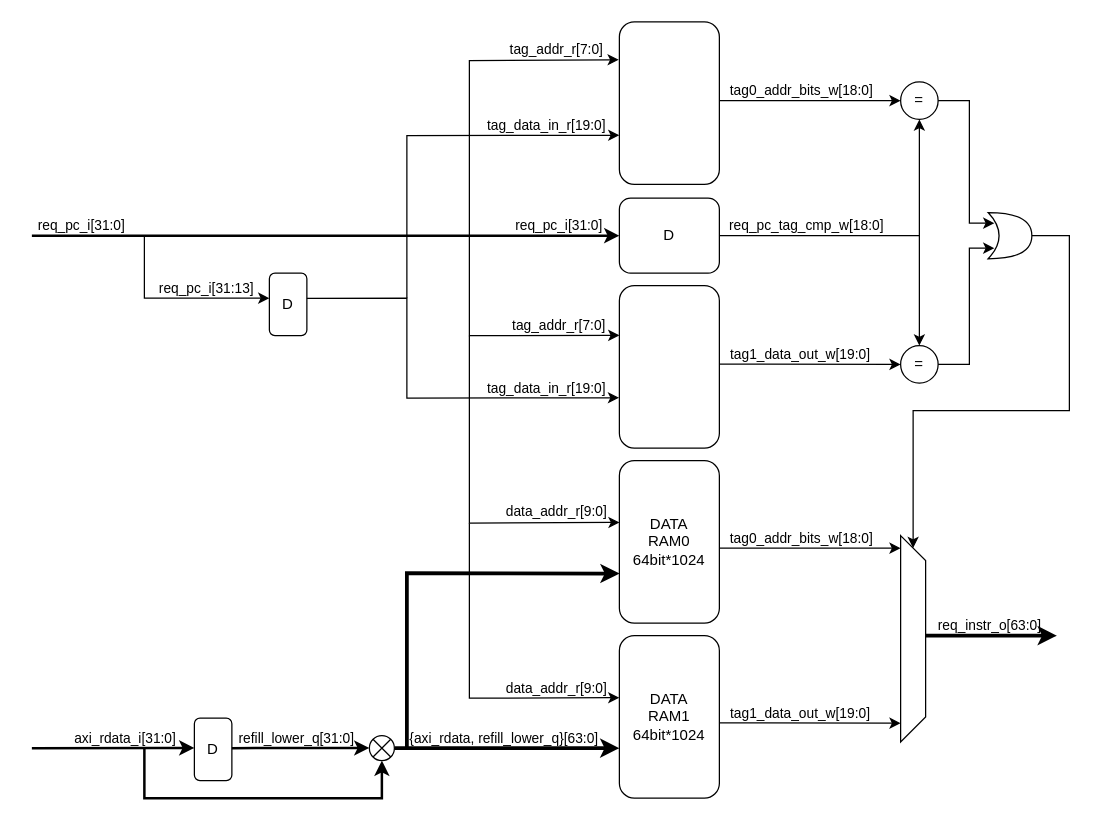
The diagram is 1101 pixels wide and 831 high, and some of its shapes have lost their labels. The centre of each missing label's shape, as x and y in pixels:
TAG RAM0 20bit*256: point (668, 102)
TAG RAM1 20bit*256: point (668, 366)
